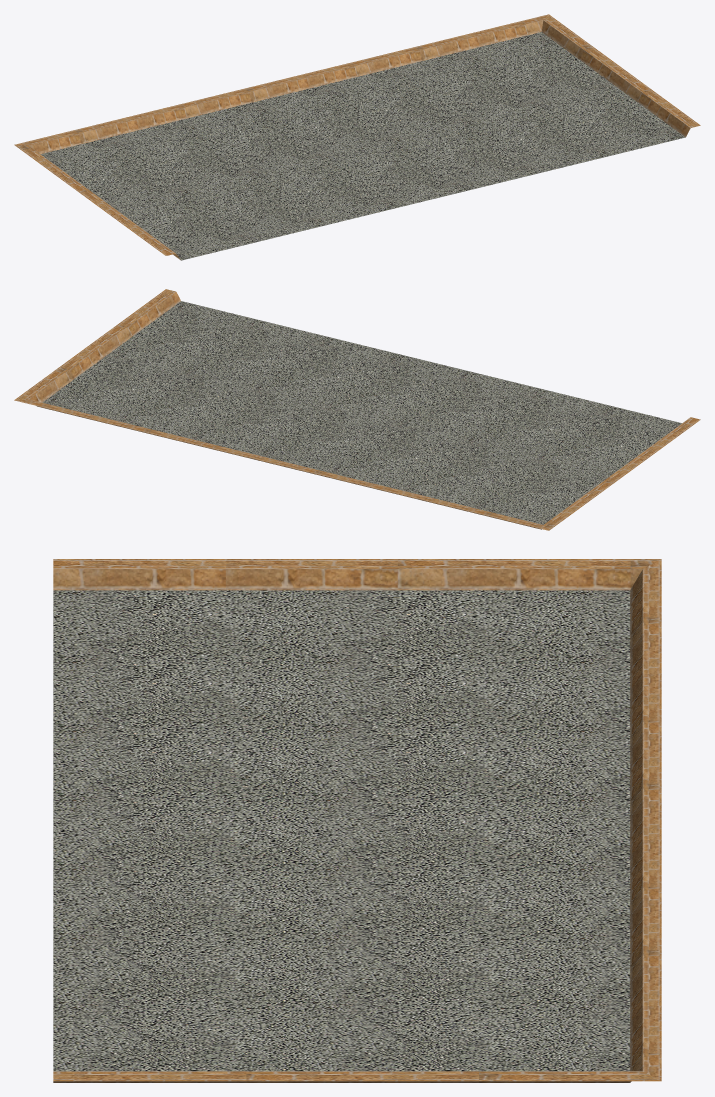
The model's file is Building_03_Roof.fbx.
3 renders of one model, top to bottom at view 1: azimuth 30°, elevation 25°; view 2: azimuth 150°, elevation 25°; view 3: azimuth 270°, elevation 25°, orthographic. The views are drawn at different scales.
Visible parts, largest first — view 1: Building_03_Roof; view 2: Building_03_Roof; view 3: Building_03_Roof.
Boxes of the visible parts, x1,y1,x2,y2 form: Building_03_Roof: (14, 14, 700, 260); Building_03_Roof: (14, 289, 700, 530); Building_03_Roof: (53, 559, 661, 1082).
Bounding box in the file's own units: 1438 × 21.04 × 708.
